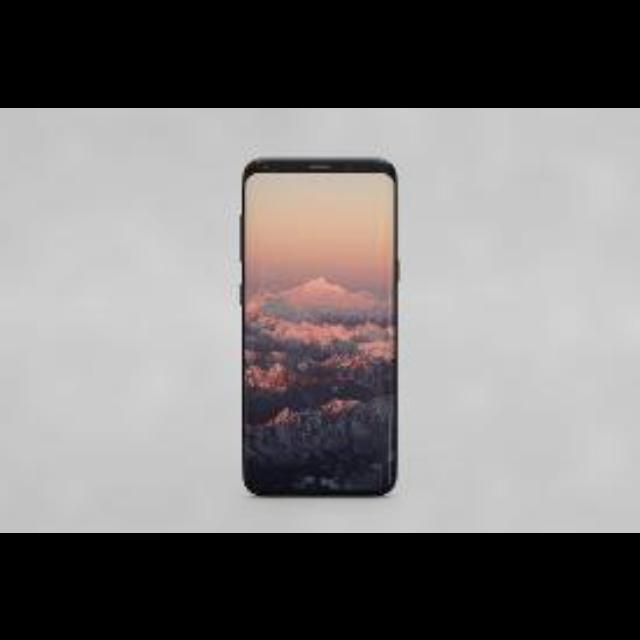phone: (241, 153, 401, 503)
